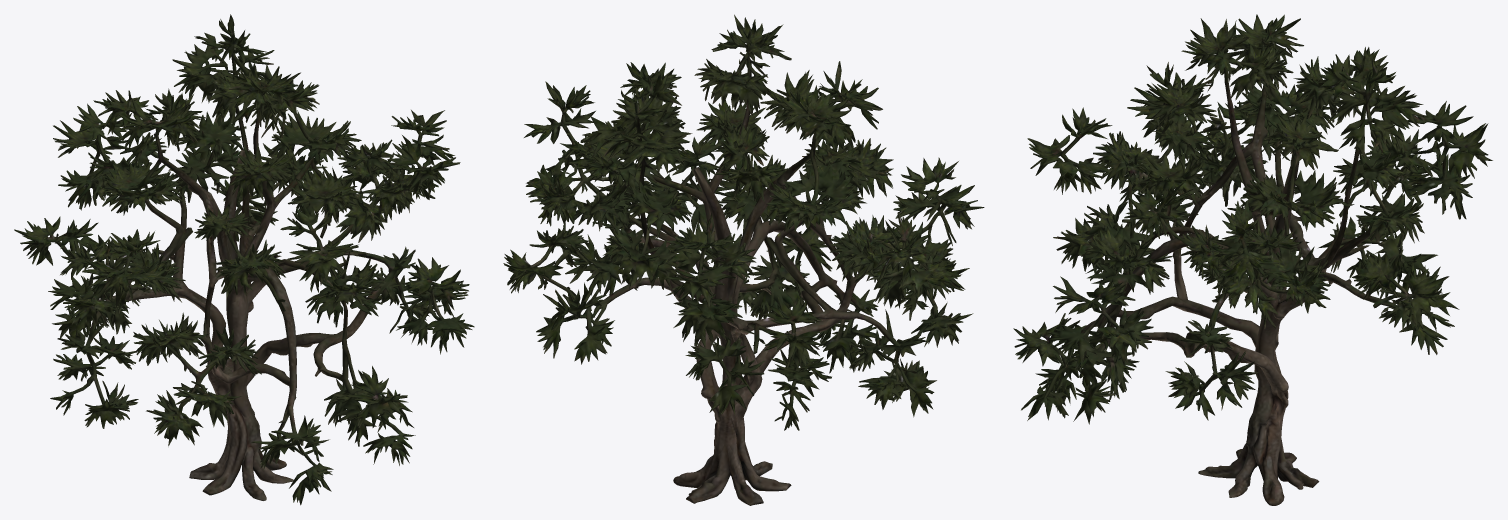
File: CW_HF_RiverAlder.fbx
The picture shows the model from 3 angles, left to right: view 1: azimuth 30°, elevation 25°; view 2: azimuth 150°, elevation 25°; view 3: azimuth 270°, elevation 25°; orthographic projection. The views are drawn at different scales.
Visible parts, largest first — view 1: CW_HF_RiverAlder; view 2: CW_HF_RiverAlder; view 3: CW_HF_RiverAlder.
Part boxes in pixels (bbox=[...]): CW_HF_RiverAlder: bbox=[14, 14, 474, 505]; CW_HF_RiverAlder: bbox=[503, 14, 984, 505]; CW_HF_RiverAlder: bbox=[1013, 14, 1492, 505].
Bounding box in the file's own units: 7.81 × 8 × 7.6.
1 material, 1 textured.
